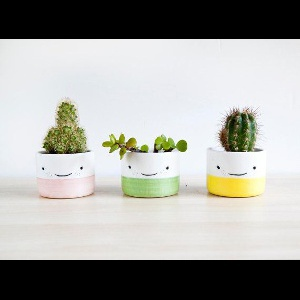flowerpot: (119, 145, 185, 198), (205, 143, 268, 198), (35, 149, 100, 201)
